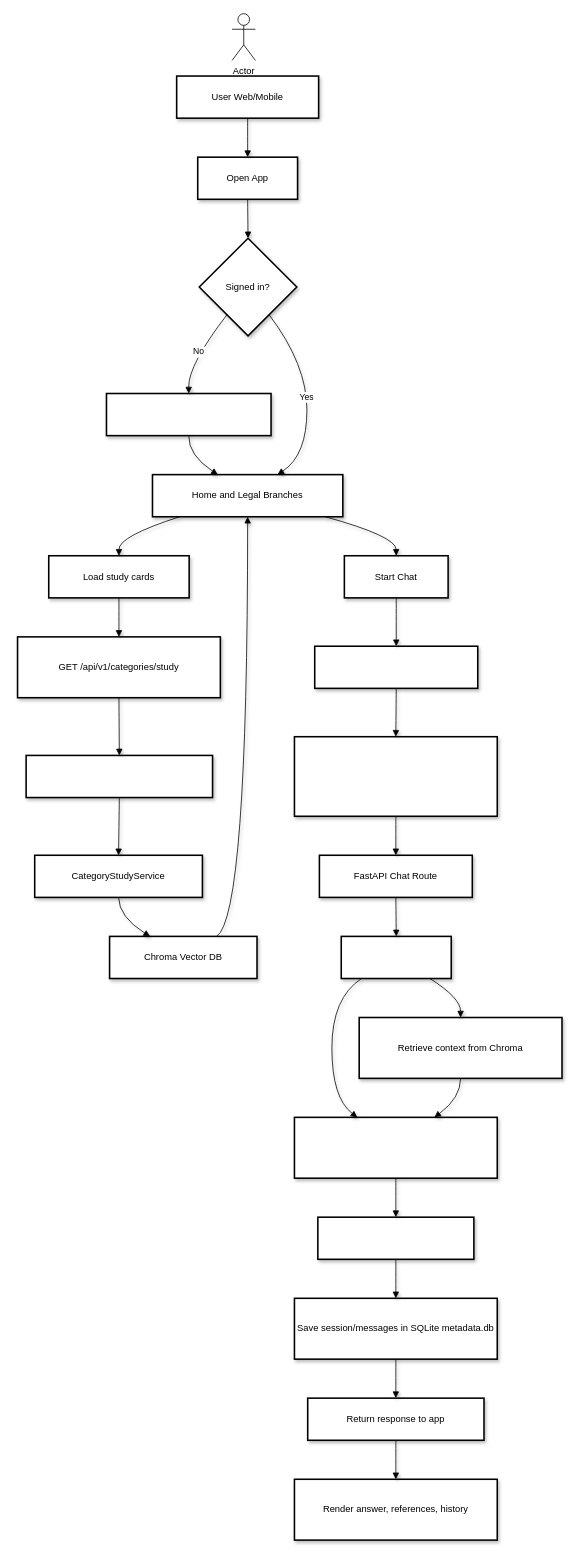
This 580x1560 diagram has some shape labels left out. The shapes that lost their labels are listed below. From the top down, each one's centre as x and y in pixels, then its label:
At [189,415]: "Clerk Sign In/Sign Up".
At [396,668]: "Send question EN/TA".
At [120,777]: "FastAPI Categories Route".
At [396,777]: "POST /api/v1/chat/query or /api/v1/chat/tamil-query".
At [396,958]: "RAGService".
At [396,1148]: "LLM call via GeminiService OpenAI-compatible API".
At [396,1239]: "Answer and sources".
